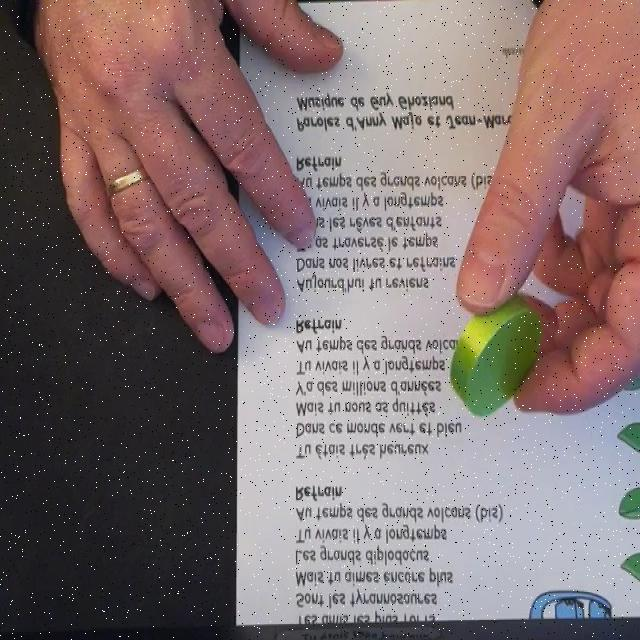round: (449, 300, 543, 417)
